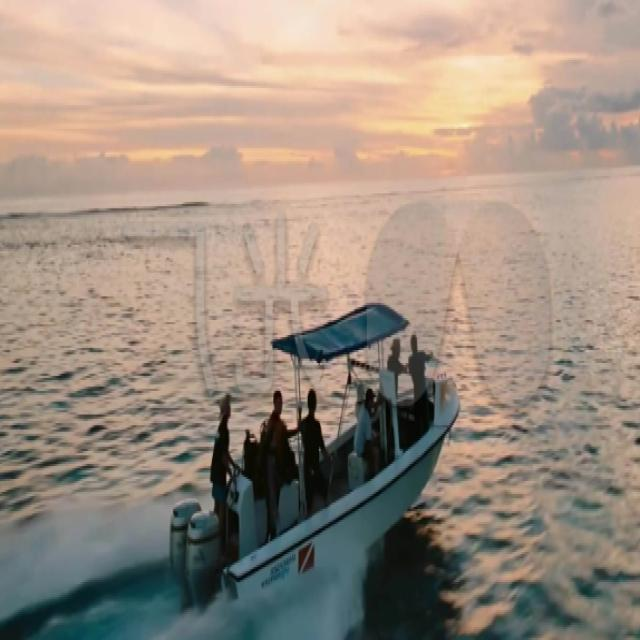houseboat: (187, 294, 458, 604)
